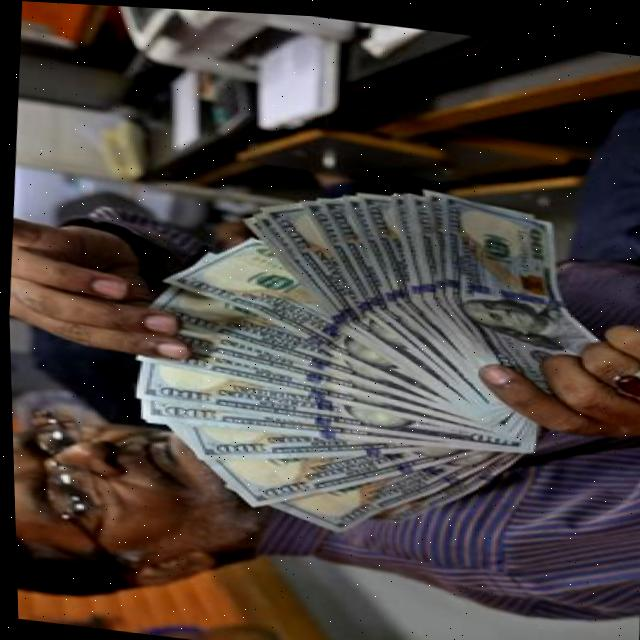banknote: (153, 223, 524, 427), (137, 234, 493, 421), (245, 186, 503, 421), (280, 194, 530, 433), (211, 413, 532, 551), (336, 184, 522, 422), (425, 188, 618, 398), (187, 412, 479, 530), (126, 357, 525, 442), (393, 186, 503, 371), (174, 413, 425, 480), (135, 396, 436, 451), (264, 207, 318, 253), (253, 469, 313, 503), (207, 431, 272, 460), (353, 195, 396, 236), (515, 214, 553, 259), (182, 273, 240, 301), (328, 491, 377, 524), (161, 303, 218, 331), (154, 377, 215, 403), (405, 193, 439, 238), (159, 400, 219, 422), (303, 207, 336, 242), (440, 194, 466, 233)
